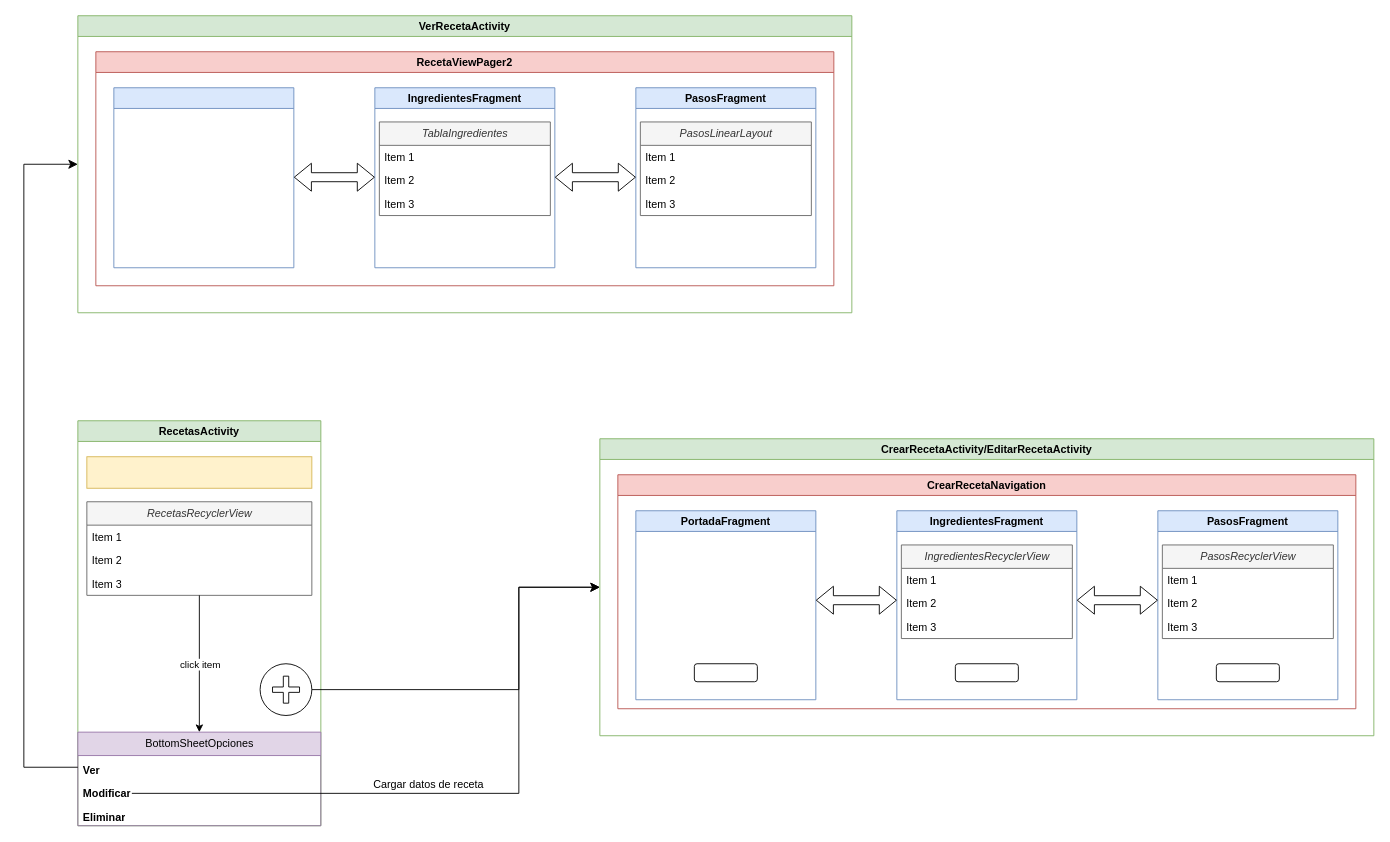
This 1390x842 diagram has some shape labels left out. Each missing label, with the centre of its shape:
Buscador: (199,472)
Guardar: (1247,672)
Ingredientes: (725,672)
Pasos: (986,672)
ResumenFragment: (203,177)
